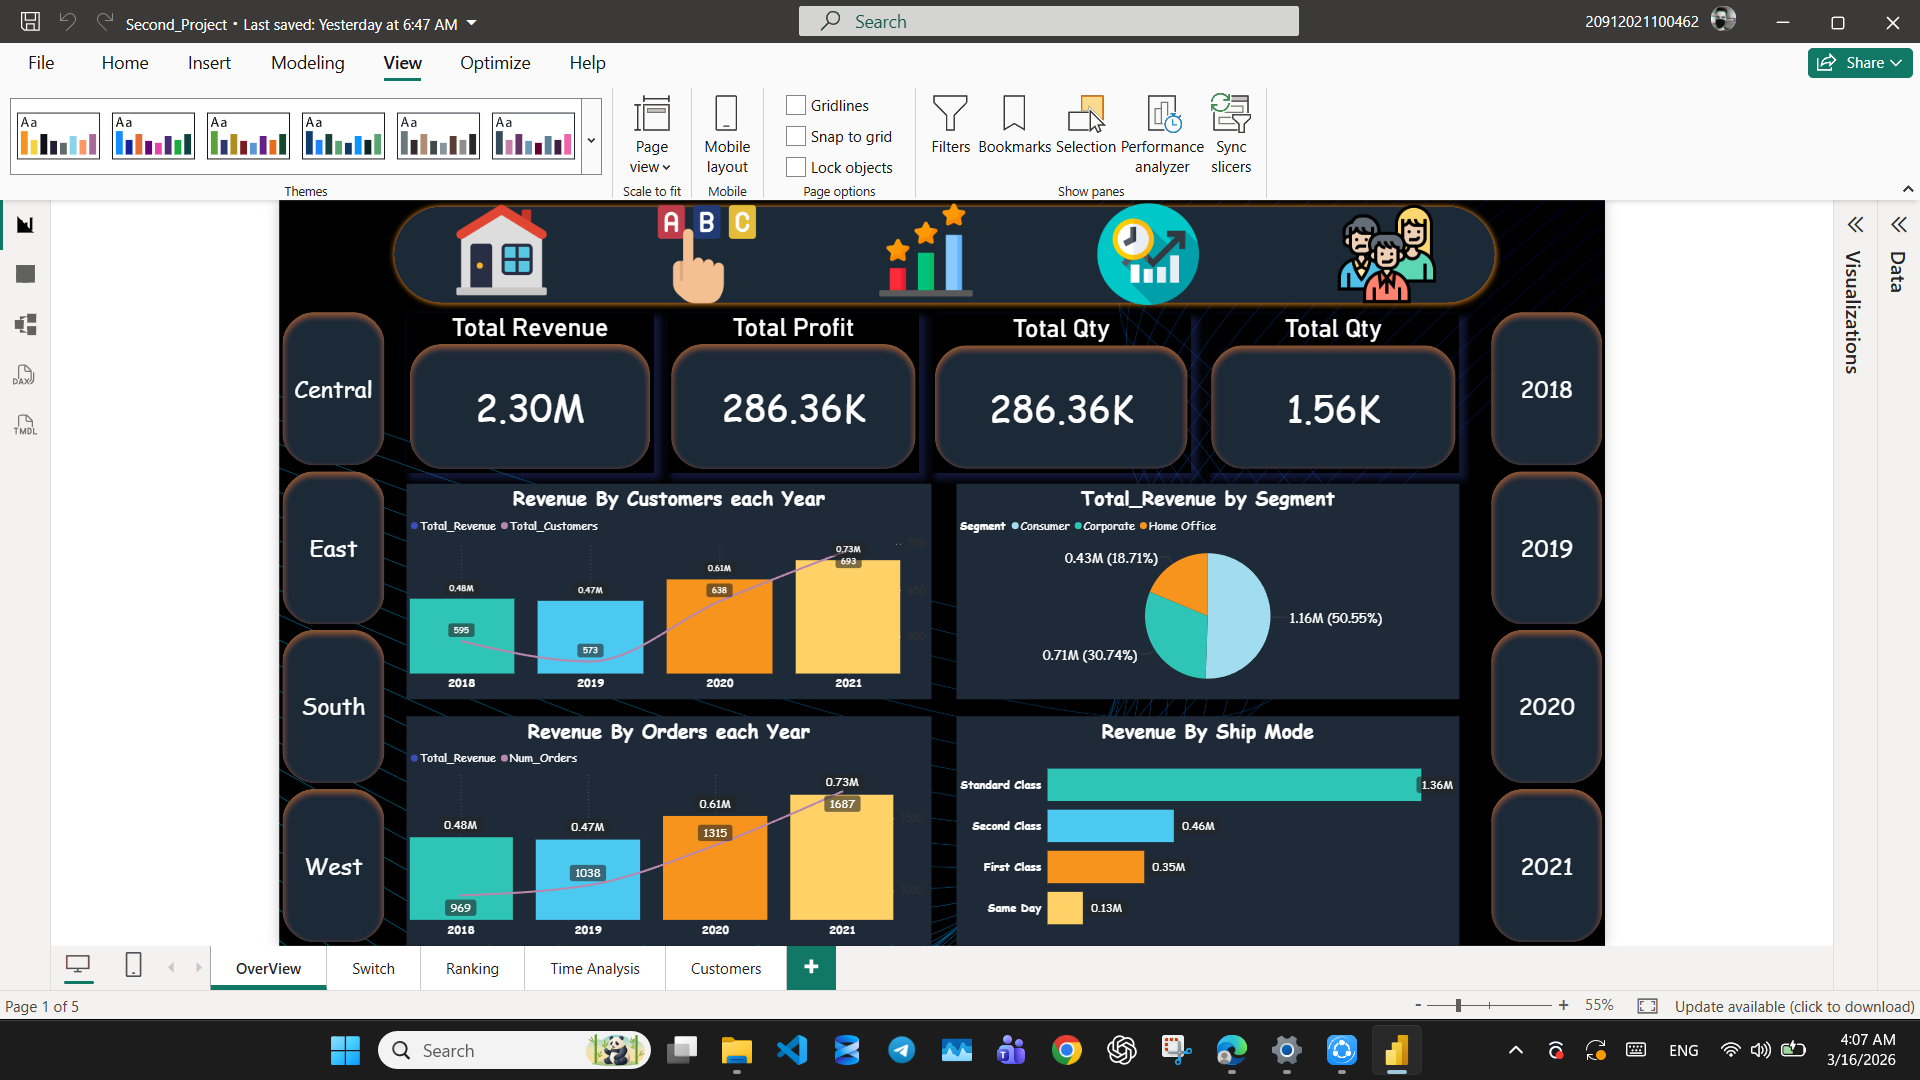

This screenshot's page, from the dashboard's own definition file:
{"tool":"powerbi","page":{"name":"OverView","canvas":[1920,1080],"ordinal":0},"visuals":[{"type":"advancedSlicerVisual","fields":{"Values":["Calendar_Table.Year"]},"box":[0,585.7,158.6,494.3],"z":2000},{"type":"advancedSlicerVisual","fields":{"Values":["Dim_Customer.Region"]},"box":[0,160,158.3,406.7],"z":3000},{"type":"shape","box":[158,0,1762,158],"z":5000},{"type":"card","title":"Total Profit","fields":{"Values":["Dax.Total_Profit"]},"box":[622,184,432,198],"z":6000},{"type":"card","fields":{"Values":["Dax.Show % Profit"]},"box":[621.8,295.5,121.8,106.4],"z":7000},{"type":"card","fields":{"Values":["Dax.Show Arrow Profit"]},"box":[924.5,291.8,170,110],"z":8000},{"type":"card","title":"Total Qty","fields":{"Values":["Dax.Total_Quantity"]},"box":[1072,184,428,198],"z":9000},{"type":"card","fields":{"Values":["Dax.Show % Quantity"]},"box":[1080,295.5,136.4,103.6],"z":10000},{"type":"card","fields":{"Values":["Dax.Show Arrow Quantity"]},"box":[1373.6,291.8,172.7,106.4],"z":11000},{"type":"card","title":"Total Discount","fields":{"Values":["Dax.Total_Discount"]},"box":[1524,184,396,198],"z":12000},{"type":"card","fields":{"Values":["Dax.Show % Discount"]},"box":[1523.6,291.8,136.4,103.6],"z":13000},{"type":"card","fields":{"Values":["Dax.Show Arrow Discount"]},"box":[1840.9,295.5,79.1,94.5],"z":14000},{"type":"lineClusteredColumnComboChart","title":"Revenue By Customers each Year","fields":{"Category":["Calendar_Table.Year"],"Y":["Dax.Total_Revenue"],"Y2":["Dax.Total_Customers"]},"box":[184,404,874,318],"z":15000},{"type":"barChart","title":"Revenue By Ship Mode","fields":{"Category":["Dim_Order.Ship Mode"],"Y":["Dax.Total_Revenue"]},"box":[1080.4,747.4,839.7,333],"z":16000},{"type":"pieChart","fields":{"Y":["Dax.Total_Revenue"],"Category":["Dim_Order.Segment"]},"box":[1080.4,410.8,839.7,311.3],"z":17000},{"type":"lineClusteredColumnComboChart","title":"Revenue By Orders each Year","fields":{"Category":["Calendar_Table.Year"],"Y2":["Dax.Num_Orders"],"Y":["Dax.Total_Revenue"]},"box":[184.6,747.4,874.1,333],"z":18000},{"type":"image","box":[230.7,0,184.2,144.8],"z":19000},{"type":"image","box":[570,0,158,158],"z":20000},{"type":"image","box":[1638,0,156,158],"z":21000},{"type":"image","box":[900,0,158,144],"z":22000},{"type":"image","box":[1250,0,158,158],"z":23000},{"type":"card","title":"Total Revenue","fields":{"Values":["Dax.Total_Revenue"]},"box":[184,184,418,198],"z":24000},{"type":"card","fields":{"Values":["Dax.Show Arrow Revenue"]},"box":[479.1,295.5,170,106.4],"z":25000},{"type":"card","fields":{"Values":["Dax.Show % Revenue"]},"box":[183.6,298.2,124.5,103.6],"z":25500}]}

Visuals, with their boxes on the page's 1920x1080 design canvas (x1, y1, x2, y2). These are canvas units, not pixel positions in the 1920x1080 screenshot, which may show the page scaled, cropped or inside an application window:
advancedSlicerVisual - Calendar_Table.Year: 0 586 159 1080
advancedSlicerVisual - Dim_Customer.Region: 0 160 158 567
shape: 158 0 1920 158
"Total Profit" card: 622 184 1054 382
card - Dax.Show % Profit: 622 296 744 402
card - Dax.Show Arrow Profit: 924 292 1094 402
"Total Qty" card: 1072 184 1500 382
card - Dax.Show % Quantity: 1080 296 1216 399
card - Dax.Show Arrow Quantity: 1374 292 1546 398
"Total Discount" card: 1524 184 1920 382
card - Dax.Show % Discount: 1524 292 1660 395
card - Dax.Show Arrow Discount: 1841 296 1920 390
"Revenue By Customers each Year" lineClusteredColumnComboChart: 184 404 1058 722
"Revenue By Ship Mode" barChart: 1080 747 1920 1080
pieChart - Dax.Total_Revenue x Dim_Order.Segment: 1080 411 1920 722
"Revenue By Orders each Year" lineClusteredColumnComboChart: 185 747 1059 1080
image: 231 0 415 145
image: 570 0 728 158
image: 1638 0 1794 158
image: 900 0 1058 144
image: 1250 0 1408 158
"Total Revenue" card: 184 184 602 382
card - Dax.Show Arrow Revenue: 479 296 649 402
card - Dax.Show % Revenue: 184 298 308 402
